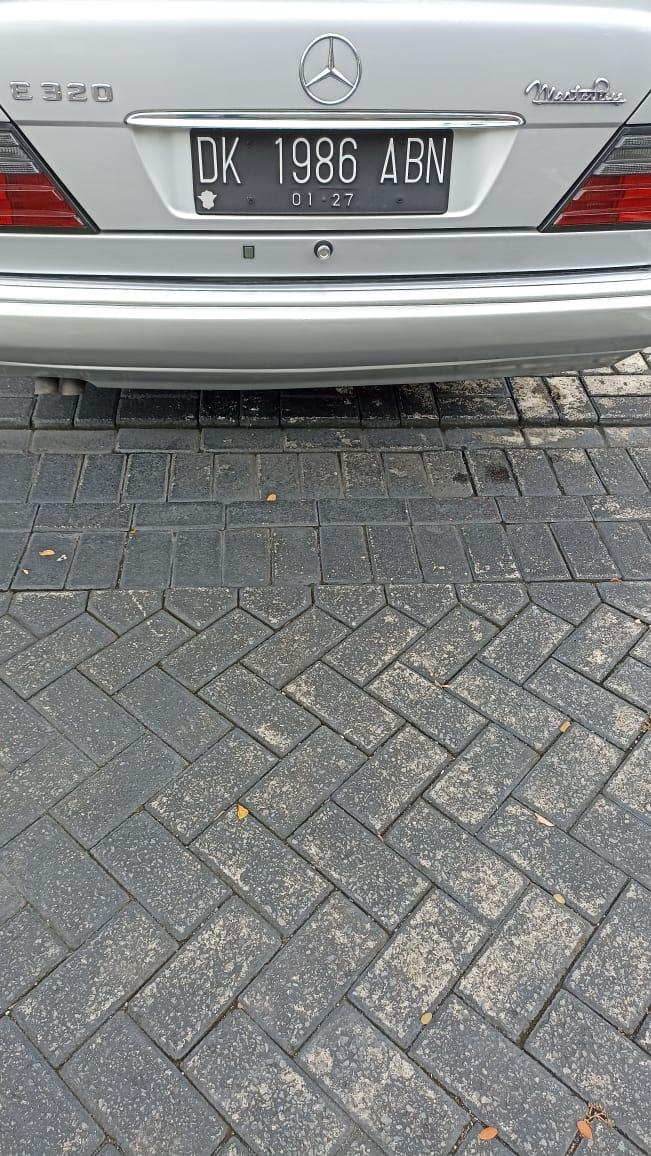plat: (192, 129, 454, 214)
